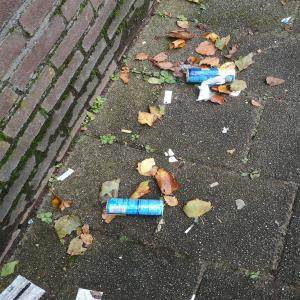Can: (103, 197, 169, 220), (184, 65, 240, 86)
Trash: (1, 274, 50, 300), (196, 76, 228, 105), (54, 166, 80, 187), (74, 287, 109, 300), (163, 89, 176, 107)
